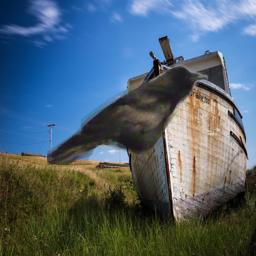Crow: (47, 64, 208, 165)
